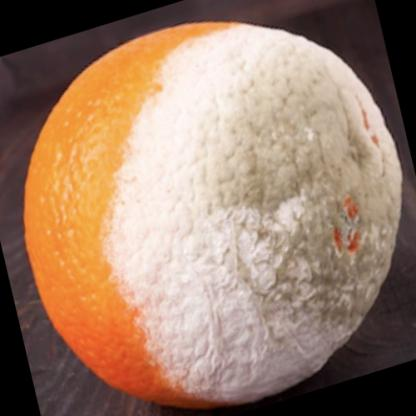rotten: (26, 22, 404, 402)
